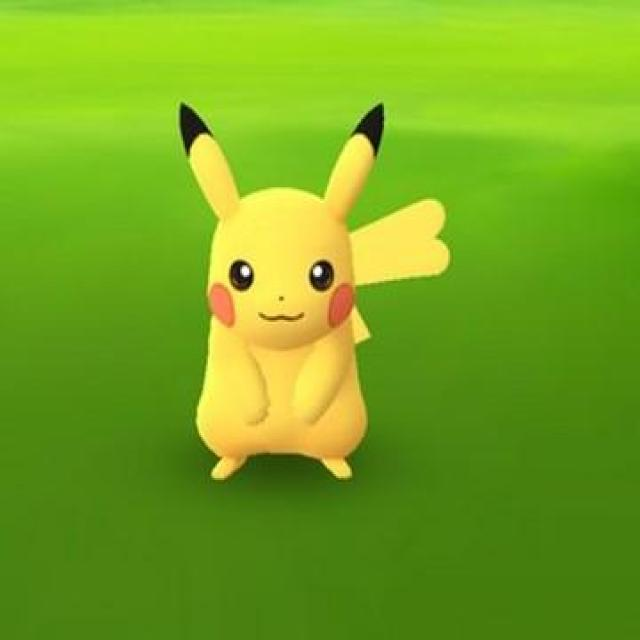pikachu: (178, 97, 460, 497)
